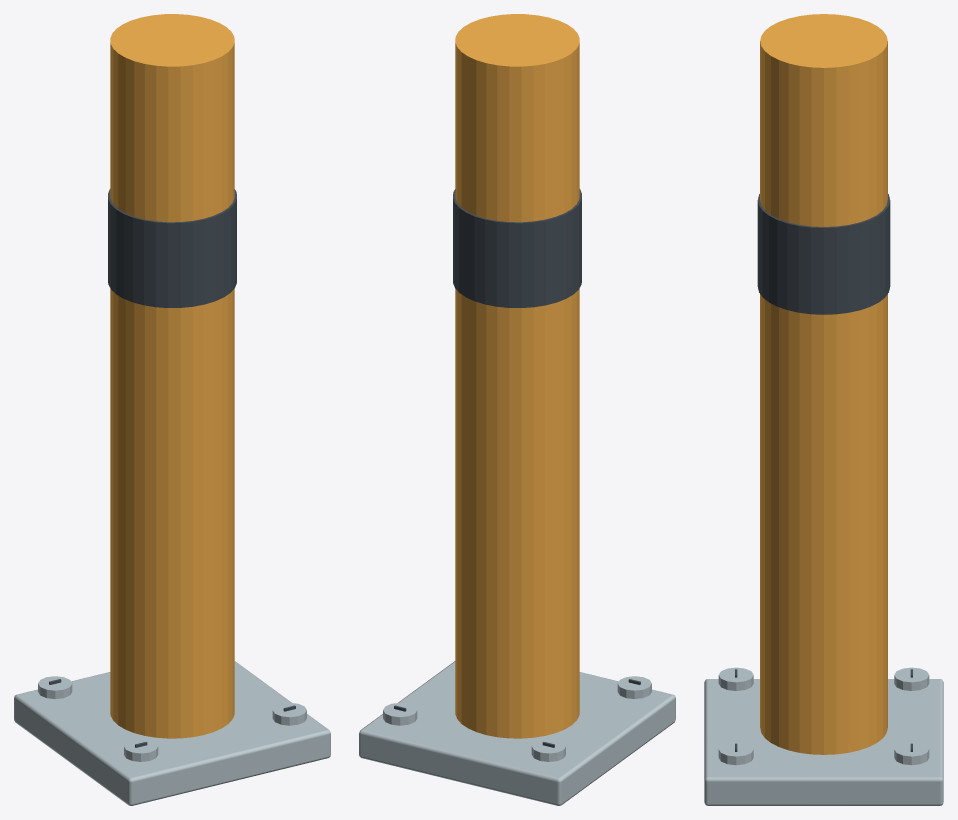
Rendered from data-centre-infiltration-kit-data-centre-infiltration--8c5c592e__29262.glb.
The picture shows the model from 3 angles, left to right: view 1: azimuth 30°, elevation 25°; view 2: azimuth 150°, elevation 25°; view 3: azimuth 270°, elevation 25°; orthographic projection. The views are drawn at different scales.
Visible parts, largest first — view 1: data-centre-infiltration-kit-bollard; view 2: data-centre-infiltration-kit-bollard; view 3: data-centre-infiltration-kit-bollard.
Boxes of the visible parts, <box> form: data-centre-infiltration-kit-bollard: <box>14,14,330,805</box>; data-centre-infiltration-kit-bollard: <box>359,14,675,805</box>; data-centre-infiltration-kit-bollard: <box>704,14,943,805</box>.
Size of the model in its own units: 0.3 by 0.99 by 0.3.
